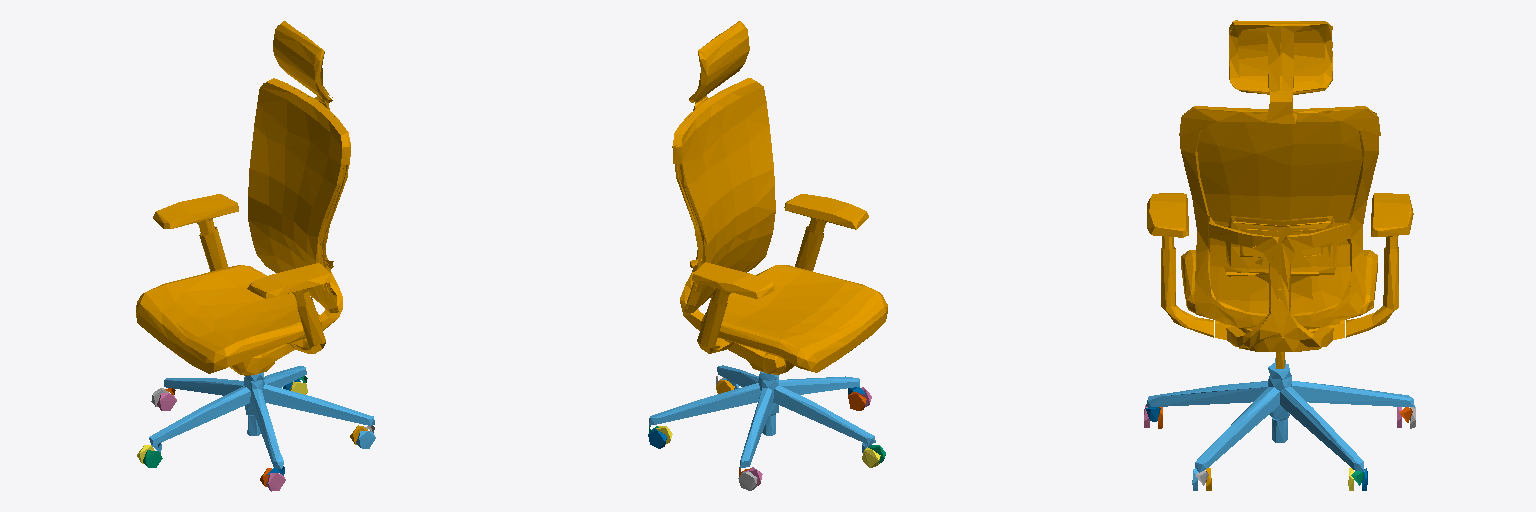
robot.urdf — partnet_10d174a00639990492d9da2668ec34c:
<?xml version="1.0" encoding="utf-8"?>
<robot name="partnet_10d174a00639990492d9da2668ec34c">
 <link name="base"/>
 <link name="link_0">
  <visual name="caster_stem-33">
   <origin xyz="-0.0069935 0 -0.487691"/>
   <geometry>
    <mesh filename="textured_objs/original-26.obj"/>
   </geometry>
  </visual>
  <collision>
   <geometry>
    <mesh filename="cvx_objs/link_0.obj"/>
   </geometry>
  </collision>
 </link>
 <joint name="joint_0" type="continuous">
  <origin xyz="0.0069935 0 0.487691"/>
  <axis xyz="0 1 0"/>
  <child link="link_0"/>
  <parent link="link_16"/>
 </joint>
 <link name="link_1">
  <visual name="wheel-34">
   <origin xyz="0 0.6648493966799938 -0.5347208123651194"/>
   <geometry>
    <mesh filename="textured_objs/original-25.obj"/>
   </geometry>
  </visual>
  <collision>
   <geometry>
    <mesh filename="cvx_objs/link_1.obj"/>
   </geometry>
  </collision>
 </link>
 <joint name="joint_1" type="continuous">
  <origin xyz="-0.0069935 -0.6648493966799938 0.04702981236511938"/>
  <axis xyz="1 0 0"/>
  <child link="link_1"/>
  <parent link="link_0"/>
 </joint>
 <link name="link_2">
  <visual name="wheel-35">
   <origin xyz="0 0.6648493966799938 -0.5347208123651194"/>
   <geometry>
    <mesh filename="textured_objs/original-24.obj"/>
   </geometry>
  </visual>
  <collision>
   <geometry>
    <mesh filename="cvx_objs/link_2.obj"/>
   </geometry>
  </collision>
 </link>
 <joint name="joint_2" type="continuous">
  <origin xyz="-0.0069935 -0.6648493966799938 0.04702981236511938"/>
  <axis xyz="1 0 0"/>
  <child link="link_2"/>
  <parent link="link_0"/>
 </joint>
 <link name="link_3">
  <visual name="caster_stem-30">
   <origin xyz="-0.4333105 0 -0.1777125"/>
   <geometry>
    <mesh filename="textured_objs/original-29.obj"/>
   </geometry>
  </visual>
  <collision>
   <geometry>
    <mesh filename="cvx_objs/link_3.obj"/>
   </geometry>
  </collision>
 </link>
 <joint name="joint_3" type="continuous">
  <origin xyz="0.4333105 0 0.1777125"/>
  <axis xyz="0 1 0"/>
  <child link="link_3"/>
  <parent link="link_16"/>
 </joint>
 <link name="link_4">
  <visual name="wheel-31">
   <origin xyz="0 0.664918865712339 -0.22481660868780365"/>
   <geometry>
    <mesh filename="textured_objs/original-27.obj"/>
   </geometry>
  </visual>
  <collision>
   <geometry>
    <mesh filename="cvx_objs/link_4.obj"/>
   </geometry>
  </collision>
 </link>
 <joint name="joint_4" type="continuous">
  <origin xyz="-0.4333105 -0.664918865712339 0.04710410868780365"/>
  <axis xyz="1 0 0"/>
  <child link="link_4"/>
  <parent link="link_3"/>
 </joint>
 <link name="link_5">
  <visual name="wheel-32">
   <origin xyz="-0.0021330995253785352 0.6616297186300059 -0.23744734422449318"/>
   <geometry>
    <mesh filename="textured_objs/original-28.obj"/>
   </geometry>
  </visual>
  <collision>
   <geometry>
    <mesh filename="cvx_objs/link_5.obj"/>
   </geometry>
  </collision>
 </link>
 <joint name="joint_5" type="continuous">
  <origin xyz="-0.43117740047462144 -0.6616297186300059 0.05973484422449318"/>
  <axis xyz="-0.9994908309717804 0.00787443135093165 0.030920416139498006"/>
  <child link="link_5"/>
  <parent link="link_3"/>
 </joint>
 <link name="link_6">
  <visual name="caster_stem-27">
   <origin xyz="-0.26091149999999996 0 0.3010635"/>
   <geometry>
    <mesh filename="textured_objs/original-16.obj"/>
   </geometry>
  </visual>
  <collision>
   <geometry>
    <mesh filename="cvx_objs/link_6.obj"/>
   </geometry>
  </collision>
 </link>
 <joint name="joint_6" type="continuous">
  <origin xyz="0.26091149999999996 0 -0.3010635"/>
  <axis xyz="0 1 0"/>
  <child link="link_6"/>
  <parent link="link_16"/>
 </joint>
 <link name="link_7">
  <visual name="wheel-28">
   <origin xyz="0 0.6649678548526803 0.27925787467579255"/>
   <geometry>
    <mesh filename="textured_objs/original-15.obj"/>
   </geometry>
  </visual>
  <collision>
   <geometry>
    <mesh filename="cvx_objs/link_7.obj"/>
   </geometry>
  </collision>
 </link>
 <joint name="joint_7" type="continuous">
  <origin xyz="-0.26091149999999996 -0.6649678548526803 0.021805625324207434"/>
  <axis xyz="1 0 0"/>
  <child link="link_7"/>
  <parent link="link_6"/>
 </joint>
 <link name="link_8">
  <visual name="wheel-29">
   <origin xyz="0 0.6649678548526803 0.27925787467579255"/>
   <geometry>
    <mesh filename="textured_objs/original-17.obj"/>
   </geometry>
  </visual>
  <collision>
   <geometry>
    <mesh filename="cvx_objs/link_8.obj"/>
   </geometry>
  </collision>
 </link>
 <joint name="joint_8" type="continuous">
  <origin xyz="-0.26091149999999996 -0.6649678548526803 0.021805625324207434"/>
  <axis xyz="1 0 0"/>
  <child link="link_8"/>
  <parent link="link_6"/>
 </joint>
 <link name="link_9">
  <visual name="caster_stem-24">
   <origin xyz="0.26760249999999997 0 0.3015725"/>
   <geometry>
    <mesh filename="textured_objs/original-20.obj"/>
   </geometry>
  </visual>
  <collision>
   <geometry>
    <mesh filename="cvx_objs/link_9.obj"/>
   </geometry>
  </collision>
 </link>
 <joint name="joint_9" type="continuous">
  <origin xyz="-0.26760249999999997 0 -0.3015725"/>
  <axis xyz="0 1 0"/>
  <child link="link_9"/>
  <parent link="link_16"/>
 </joint>
 <link name="link_10">
  <visual name="wheel-25">
   <origin xyz="0 0.6649678548526803 0.27925787467579255"/>
   <geometry>
    <mesh filename="textured_objs/original-19.obj"/>
   </geometry>
  </visual>
  <collision>
   <geometry>
    <mesh filename="cvx_objs/link_10.obj"/>
   </geometry>
  </collision>
 </link>
 <joint name="joint_10" type="continuous">
  <origin xyz="0.26760249999999997 -0.6649678548526803 0.02231462532420747"/>
  <axis xyz="1 0 0"/>
  <child link="link_10"/>
  <parent link="link_9"/>
 </joint>
 <link name="link_11">
  <visual name="wheel-26">
   <origin xyz="0 0.6649678548526803 0.27925787467579255"/>
   <geometry>
    <mesh filename="textured_objs/original-18.obj"/>
   </geometry>
  </visual>
  <collision>
   <geometry>
    <mesh filename="cvx_objs/link_11.obj"/>
   </geometry>
  </collision>
 </link>
 <joint name="joint_11" type="continuous">
  <origin xyz="0.26760249999999997 -0.6649678548526803 0.02231462532420747"/>
  <axis xyz="1 0 0"/>
  <child link="link_11"/>
  <parent link="link_9"/>
 </joint>
 <link name="link_12">
  <visual name="caster_stem-21">
   <origin xyz="0.430953 0 -0.201757"/>
   <geometry>
    <mesh filename="textured_objs/original-23.obj"/>
   </geometry>
  </visual>
  <collision>
   <geometry>
    <mesh filename="cvx_objs/link_12.obj"/>
   </geometry>
  </collision>
 </link>
 <joint name="joint_12" type="continuous">
  <origin xyz="-0.430953 0 0.201757"/>
  <axis xyz="0 1 0"/>
  <child link="link_12"/>
  <parent link="link_16"/>
 </joint>
 <link name="link_13">
  <visual name="wheel-22">
   <origin xyz="0 0.6649679093392156 -0.2236058183643991"/>
   <geometry>
    <mesh filename="textured_objs/original-22.obj"/>
   </geometry>
  </visual>
  <collision>
   <geometry>
    <mesh filename="cvx_objs/link_13.obj"/>
   </geometry>
  </collision>
 </link>
 <joint name="joint_13" type="continuous">
  <origin xyz="0.430953 -0.6649679093392156 0.021848818364399114"/>
  <axis xyz="1 0 0"/>
  <child link="link_13"/>
  <parent link="link_12"/>
 </joint>
 <link name="link_14">
  <visual name="wheel-23">
   <origin xyz="0 0.6649679093392156 -0.2236058183643991"/>
   <geometry>
    <mesh filename="textured_objs/original-21.obj"/>
   </geometry>
  </visual>
  <collision>
   <geometry>
    <mesh filename="cvx_objs/link_14.obj"/>
   </geometry>
  </collision>
 </link>
 <joint name="joint_14" type="continuous">
  <origin xyz="0.430953 -0.6649679093392156 0.021848818364399114"/>
  <axis xyz="1 0 0"/>
  <child link="link_14"/>
  <parent link="link_12"/>
 </joint>
 <link name="link_15">
  <visual name="headrest-50">
   <origin xyz="-0.008045592793736 0 -0.060616659688683586"/>
   <geometry>
    <mesh filename="textured_objs/original-33.obj"/>
   </geometry>
  </visual>
  <visual name="headrest-50">
   <origin xyz="-0.008045592793736 0 -0.060616659688683586"/>
   <geometry>
    <mesh filename="textured_objs/original-32.obj"/>
   </geometry>
  </visual>
  <visual name="head_connector-51">
   <origin xyz="-0.008045592793736 0 -0.060616659688683586"/>
   <geometry>
    <mesh filename="textured_objs/original-34.obj"/>
   </geometry>
  </visual>
  <visual name="back_hard_surface-47">
   <origin xyz="-0.008045592793736 0 -0.060616659688683586"/>
   <geometry>
    <mesh filename="textured_objs/new-41.obj"/>
   </geometry>
  </visual>
  <visual name="back_hard_surface-47">
   <origin xyz="-0.008045592793736 0 -0.060616659688683586"/>
   <geometry>
    <mesh filename="textured_objs/original-9.obj"/>
   </geometry>
  </visual>
  <visual name="back_hard_surface-47">
   <origin xyz="-0.008045592793736 0 -0.060616659688683586"/>
   <geometry>
    <mesh filename="textured_objs/original-35.obj"/>
   </geometry>
  </visual>
  <visual name="back_hard_surface-47">
   <origin xyz="-0.008045592793736 0 -0.060616659688683586"/>
   <geometry>
    <mesh filename="textured_objs/original-40.obj"/>
   </geometry>
  </visual>
  <visual name="back_hard_surface-47">
   <origin xyz="-0.008045592793736 0 -0.060616659688683586"/>
   <geometry>
    <mesh filename="textured_objs/original-38.obj"/>
   </geometry>
  </visual>
  <visual name="back_hard_surface-47">
   <origin xyz="-0.008045592793736 0 -0.060616659688683586"/>
   <geometry>
    <mesh filename="textured_objs/original-39.obj"/>
   </geometry>
  </visual>
  <visual name="back_hard_surface-47">
   <origin xyz="-0.008045592793736 0 -0.060616659688683586"/>
   <geometry>
    <mesh filename="textured_objs/original-41.obj"/>
   </geometry>
  </visual>
  <visual name="back_hard_surface-47">
   <origin xyz="-0.008045592793736 0 -0.060616659688683586"/>
   <geometry>
    <mesh filename="textured_objs/original-44.obj"/>
   </geometry>
  </visual>
  <visual name="back_hard_surface-47">
   <origin xyz="-0.008045592793736 0 -0.060616659688683586"/>
   <geometry>
    <mesh filename="textured_objs/original-36.obj"/>
   </geometry>
  </visual>
  <visual name="back_support-46">
   <origin xyz="-0.008045592793736 0 -0.060616659688683586"/>
   <geometry>
    <mesh filename="textured_objs/new-45.obj"/>
   </geometry>
  </visual>
  <visual name="back_support-46">
   <origin xyz="-0.008045592793736 0 -0.060616659688683586"/>
   <geometry>
    <mesh filename="textured_objs/original-42.obj"/>
   </geometry>
  </visual>
  <visual name="back_support-46">
   <origin xyz="-0.008045592793736 0 -0.060616659688683586"/>
   <geometry>
    <mesh filename="textured_objs/original-31.obj"/>
   </geometry>
  </visual>
  <visual name="back_support-46">
   <origin xyz="-0.008045592793736 0 -0.060616659688683586"/>
   <geometry>
    <mesh filename="textured_objs/original-45.obj"/>
   </geometry>
  </visual>
  <visual name="back_support-46">
   <origin xyz="-0.008045592793736 0 -0.060616659688683586"/>
   <geometry>
    <mesh filename="textured_objs/original-43.obj"/>
   </geometry>
  </visual>
  <visual name="back_support-46">
   <origin xyz="-0.008045592793736 0 -0.060616659688683586"/>
   <geometry>
    <mesh filename="textured_objs/original-37.obj"/>
   </geometry>
  </visual>
  <visual name="back_connector-48">
   <origin xyz="-0.008045592793736 0 -0.060616659688683586"/>
   <geometry>
    <mesh filename="textured_objs/new-51.obj"/>
   </geometry>
  </visual>
  <visual name="back_connector-49">
   <origin xyz="-0.008045592793736 0 -0.060616659688683586"/>
   <geometry>
    <mesh filename="textured_objs/new-50.obj"/>
   </geometry>
  </visual>
  <visual name="armrest_hard_surface-42">
   <origin xyz="-0.008045592793736 0 -0.060616659688683586"/>
   <geometry>
    <mesh filename="textured_objs/original-8.obj"/>
   </geometry>
  </visual>
  <visual name="arm_vertical_bar-43">
   <origin xyz="-0.008045592793736 0 -0.060616659688683586"/>
   <geometry>
    <mesh filename="textured_objs/new-53.obj"/>
   </geometry>
  </visual>
  <visual name="arm_connector-44">
   <origin xyz="-0.008045592793736 0 -0.060616659688683586"/>
   <geometry>
    <mesh filename="textured_objs/new-39.obj"/>
   </geometry>
  </visual>
  <visual name="arm_connector-44">
   <origin xyz="-0.008045592793736 0 -0.060616659688683586"/>
   <geometry>
    <mesh filename="textured_objs/new-42.obj"/>
   </geometry>
  </visual>
  <visual name="armrest_hard_surface-39">
   <origin xyz="-0.008045592793736 0 -0.060616659688683586"/>
   <geometry>
    <mesh filename="textured_objs/original-7.obj"/>
   </geometry>
  </visual>
  <visual name="arm_vertical_bar-40">
   <origin xyz="-0.008045592793736 0 -0.060616659688683586"/>
   <geometry>
    <mesh filename="textured_objs/new-38.obj"/>
   </geometry>
  </visual>
  <visual name="arm_connector-41">
   <origin xyz="-0.008045592793736 0 -0.060616659688683586"/>
   <geometry>
    <mesh filename="textured_objs/new-37.obj"/>
   </geometry>
  </visual>
  <visual name="seat_hard_surface-38">
   <origin xyz="-0.008045592793736 0 -0.060616659688683586"/>
   <geometry>
    <mesh filename="textured_objs/original-46.obj"/>
   </geometry>
  </visual>
  <visual name="seat_hard_surface-38">
   <origin xyz="-0.008045592793736 0 -0.060616659688683586"/>
   <geometry>
    <mesh filename="textured_objs/original-30.obj"/>
   </geometry>
  </visual>
  <visual name="seat_support-37">
   <origin xyz="-0.008045592793736 0 -0.060616659688683586"/>
   <geometry>
    <mesh filename="textured_objs/original-14.obj"/>
   </geometry>
  </visual>
  <visual name="seat_connector-10">
   <origin xyz="-0.008045592793736 0 -0.060616659688683586"/>
   <geometry>
    <mesh filename="textured_objs/new-27.obj"/>
   </geometry>
  </visual>
  <collision>
   <geometry>
    <mesh filename="cvx_objs/link_15.obj"/>
   </geometry>
  </collision>
 </link>
 <joint name="joint_15" type="continuous">
  <origin xyz="0.0 0 0.0"/>
  <axis xyz="0 1 0"/>
  <child link="link_15"/>
  <parent link="link_15_helper"/>
 </joint>
 <link name="link_16">
  <visual name="central_support-8">
   <origin xyz="0 0 0"/>
   <geometry>
    <mesh filename="textured_objs/new-28.obj"/>
   </geometry>
  </visual>
  <visual name="central_support-8">
   <origin xyz="0 0 0"/>
   <geometry>
    <mesh filename="textured_objs/new-34.obj"/>
   </geometry>
  </visual>
  <visual name="central_support-8">
   <origin xyz="0 0 0"/>
   <geometry>
    <mesh filename="textured_objs/original-11.obj"/>
   </geometry>
  </visual>
  <visual name="central_support-8">
   <origin xyz="0 0 0"/>
   <geometry>
    <mesh filename="textured_objs/original-12.obj"/>
   </geometry>
  </visual>
  <visual name="leg-11">
   <origin xyz="0 0 0"/>
   <geometry>
    <mesh filename="textured_objs/new-29.obj"/>
   </geometry>
  </visual>
  <visual name="leg-12">
   <origin xyz="0 0 0"/>
   <geometry>
    <mesh filename="textured_objs/new-33.obj"/>
   </geometry>
  </visual>
  <visual name="leg-13">
   <origin xyz="0 0 0"/>
   <geometry>
    <mesh filename="textured_objs/new-32.obj"/>
   </geometry>
  </visual>
  <visual name="leg-14">
   <origin xyz="0 0 0"/>
   <geometry>
    <mesh filename="textured_objs/new-31.obj"/>
   </geometry>
  </visual>
  <visual name="leg-15">
   <origin xyz="0 0 0"/>
   <geometry>
    <mesh filename="textured_objs/new-30.obj"/>
   </geometry>
  </visual>
  <collision>
   <geometry>
    <mesh filename="cvx_objs/link_16.obj"/>
   </geometry>
  </collision>
 </link>
 <joint name="joint_16" type="fixed">
  <origin rpy="1.570796326794897 0 -1.570796326794897" xyz="0 0 0"/>
  <child link="link_16"/>
  <parent link="base"/>
 </joint>
 <link name="link_15_helper"/>
 <joint name="joint_17" type="prismatic">
  <origin xyz="0.008045592793736 0 0.060616659688683586"/>
  <axis xyz="0 -1 0"/>
  <child link="link_15_helper"/>
  <parent link="link_16"/>
  <limit lower="0" upper="0.1"/>
 </joint>
</robot>

--- Render facts (derived) ---
3 views of the same robot in one strip: view 1: azimuth 30°, elevation 25°; view 2: azimuth 150°, elevation 25°; view 3: azimuth 270°, elevation 25° (orthographic).
Model partnet_10d174a00639990492d9da2668ec34c with 19 links and 18 joints (16 continuous, 1 prismatic, 1 fixed), rooted at base, posed all joints at 0.
Visible links, largest first — view 1: link_15, link_16; view 2: link_15, link_16; view 3: link_15, link_16.
Boxes of the visible links, x1,y1,x2,y2 form: link_15: [136, 21, 350, 375]; link_16: [149, 366, 374, 469]; link_15: [672, 21, 887, 374]; link_16: [649, 365, 875, 467]; link_15: [1147, 20, 1413, 368]; link_16: [1146, 358, 1414, 472].
Size in the robot's own frame: 0.9058 by 0.9215 by 1.7 metres.
Meshes: 55 distinct files referenced, 55 mesh visuals loaded (55 OBJ).
